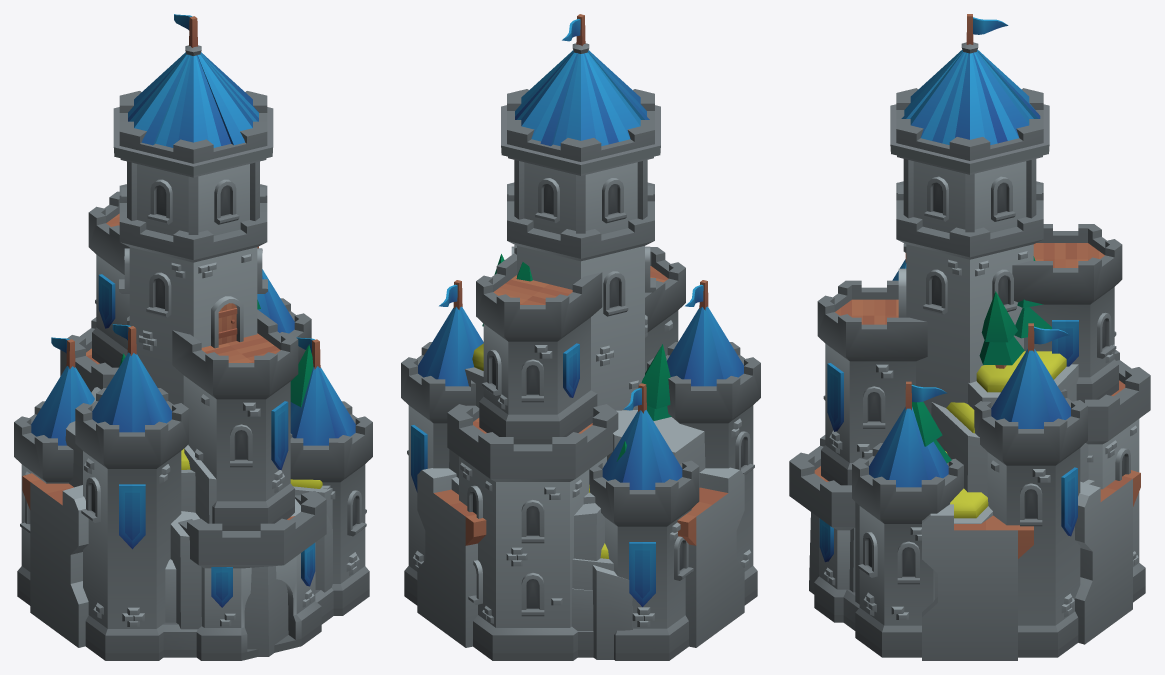
Rendered from medieval.glb.
3 renders of one model, left to right at view 1: azimuth 30°, elevation 25°; view 2: azimuth 150°, elevation 25°; view 3: azimuth 270°, elevation 25°, orthographic.
Visible parts, largest first — view 1: building_castle_blue, mountain_C, wall_corner_A_outside, wall_straight, mountain_A_grass, mountain_B_grass_trees, mountain_A; view 2: building_castle_blue, wall_corner_A_outside, mountain_C, mountain_B_grass_trees, building_mine_yellow, mountain_A, wall_straight; view 3: building_castle_blue, wall_straight, mountain_B_grass_trees, wall_corner_A_outside, mountain_C, mountain_B.
Part boxes in pixels (box(x1,y1,x2,y2)): building_castle_blue: box(14, 14, 372, 660); mountain_C: box(65, 387, 332, 656); wall_corner_A_outside: box(22, 473, 83, 647); wall_straight: box(23, 473, 88, 647); mountain_A_grass: box(181, 449, 332, 521); mountain_B_grass_trees: box(119, 299, 313, 407); mountain_A: box(182, 473, 332, 591); building_castle_blue: box(401, 14, 760, 660); wall_corner_A_outside: box(417, 468, 744, 647); mountain_C: box(451, 410, 705, 560); mountain_B_grass_trees: box(456, 254, 671, 590); building_mine_yellow: box(592, 565, 633, 659); mountain_A: box(572, 497, 595, 630); wall_straight: box(678, 467, 736, 522); building_castle_blue: box(789, 14, 1150, 657); wall_straight: box(922, 504, 1033, 660); mountain_B_grass_trees: box(912, 256, 1088, 598); wall_corner_A_outside: box(1075, 470, 1140, 644); mountain_C: box(809, 479, 1094, 604); mountain_B: box(931, 364, 1078, 523).
Bounding box in the file's own units: 2 × 4.08 × 2.26.
1 material, 1 textured.
